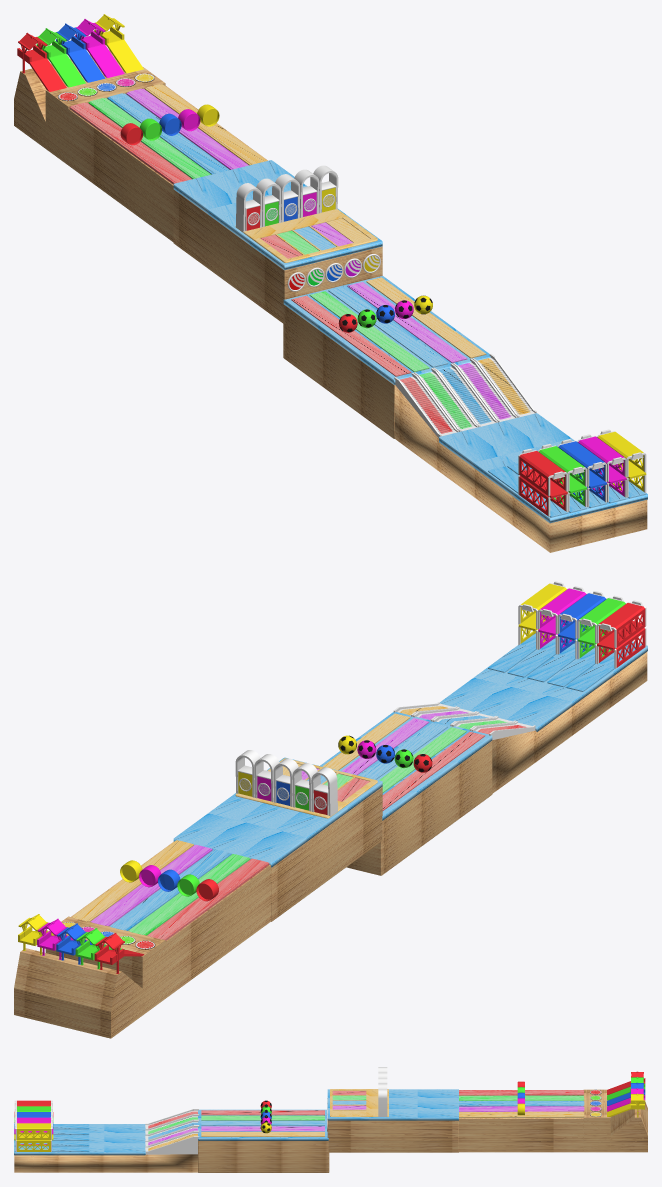
File: crossing-fountain.glb
3 views of the same model, one above another, from view 1: azimuth 30°, elevation 25°; view 2: azimuth 150°, elevation 25°; view 3: azimuth 270°, elevation 25° (orthographic). The views are drawn at different scales.
Parts seen in each view (by area): view 1: Material_221-material_145, Material_221-material_141, Material_222-material_50, Material_222-material_143, Material_222-material_139, Material_235-material_127, Material_215-material_167, Material_270-material_52, Material_209-material_179, Material_205-material_187, Material_208-material_181, Material_207-material_183 (+16 smaller); view 2: Material_221-material_145, Material_221-material_141, Material_222-material_143, Material_222-material_50, Material_235-material_127, Material_222-material_139, Material_270-material_52, Material_209-material_179, Material_178-material_247, Material_180-material_243, Material_179-material_245, Material_182-material_239 (+11 smaller); view 3: Material_221-material_145, Material_221-material_141, Material_222-material_143, Material_222-material_50, Material_222-material_139, Material_265-material_84, Material_215-material_167, Material_249-material_92, Material_206-material_185, Material_209-material_179, Material_208-material_181, Material_205-material_187 (+25 smaller).
Part boxes in pixels (x1,y1,x2,y2): Material_221-material_145: (14, 50, 382, 323); Material_221-material_141: (283, 304, 647, 552); Material_222-material_50: (439, 413, 647, 523); Material_222-material_143: (173, 160, 382, 270); Material_222-material_139: (283, 276, 490, 384); Material_235-material_127: (236, 165, 338, 232); Material_215-material_167: (235, 209, 377, 262); Material_270-material_52: (519, 451, 565, 515); Material_209-material_179: (291, 295, 411, 376); Material_205-material_187: (366, 277, 486, 358); Material_208-material_181: (309, 291, 429, 372); Material_207-material_183: (328, 286, 448, 367); Material_221-material_145: (14, 787, 382, 1038); Material_221-material_141: (346, 652, 647, 875); Material_222-material_143: (173, 757, 382, 867); Material_222-material_50: (440, 645, 647, 731); Material_235-material_127: (235, 750, 337, 816); Material_222-material_139: (320, 712, 492, 820); Material_270-material_52: (599, 603, 645, 667); Material_209-material_179: (382, 732, 485, 810); Material_178-material_247: (149, 859, 267, 939); Material_180-material_243: (111, 849, 229, 930); Material_179-material_245: (130, 854, 248, 934); Material_182-material_239: (73, 840, 191, 921); Material_221-material_145: (327, 1089, 647, 1152); Material_221-material_141: (14, 1141, 329, 1172); Material_222-material_143: (327, 1089, 458, 1120); Material_222-material_50: (14, 1124, 145, 1155); Material_222-material_139: (198, 1109, 328, 1140); Material_265-material_84: (17, 1123, 50, 1151); Material_215-material_167: (330, 1089, 388, 1116); Material_249-material_92: (145, 1131, 199, 1154); Material_206-material_185: (201, 1126, 324, 1131); Material_209-material_179: (201, 1110, 324, 1115); Material_208-material_181: (201, 1115, 324, 1120); Material_205-material_187: (201, 1132, 324, 1136).
Size of the model in its own units: 1.81 by 2.39 by 17.12.
Materials: 45 (18 with a texture image).
